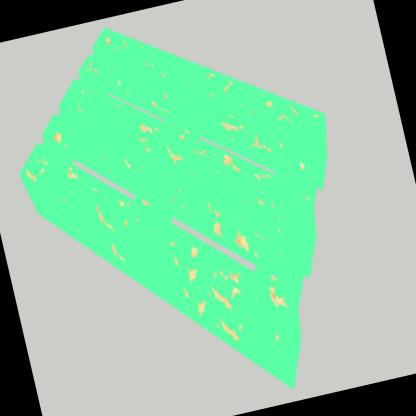BoxFace: (15, 26, 331, 396)
